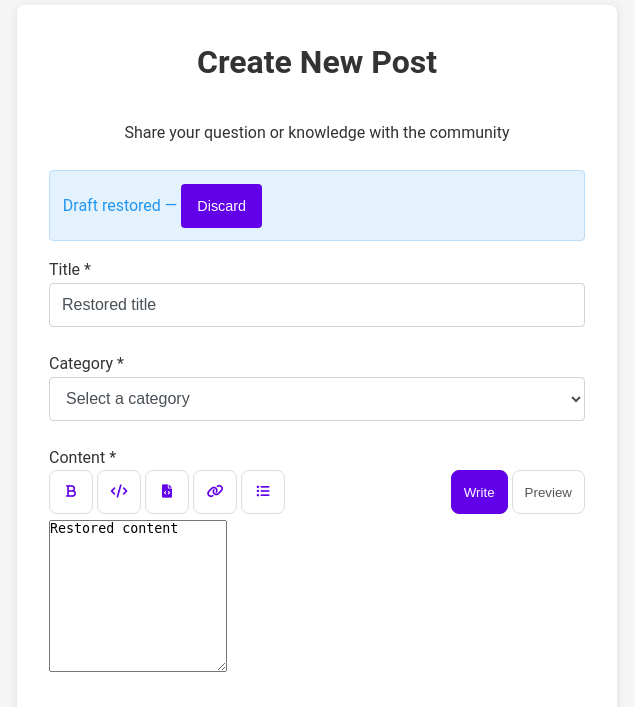
CreatePost draft autosave › discarding the restored draft clears the fields and the stored draft
The image size is (635, 707).
Check: the text "Draft restored — Discard" is shown, box [49,170,585,241]
Click the button "Discard": (222, 206) [181,184,262,228]
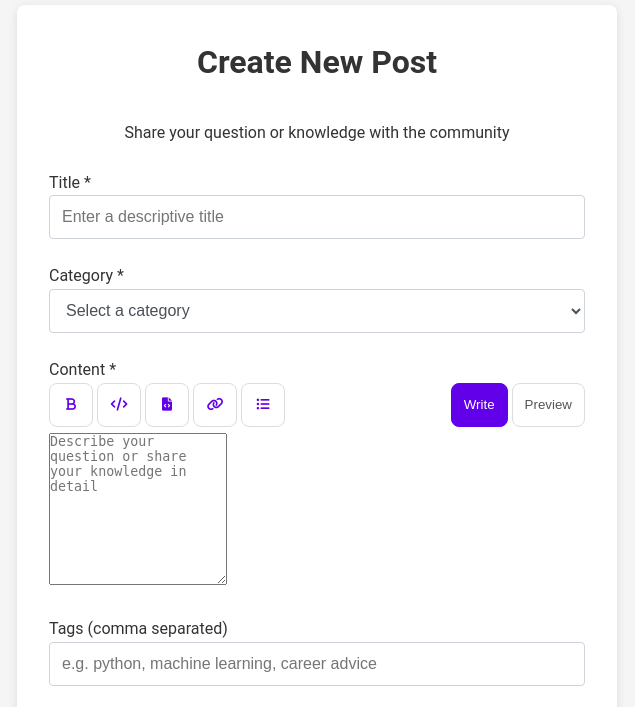
Check: the field labelled "Title *" is empty, box [49,195,585,239]
Check: the text box labelled "Content *" is empty, box [49,433,227,585]
Check: the text "Draft restored" is gone
